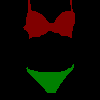mutande: (26, 63, 74, 93)
reggiseno: (23, 0, 75, 39)
